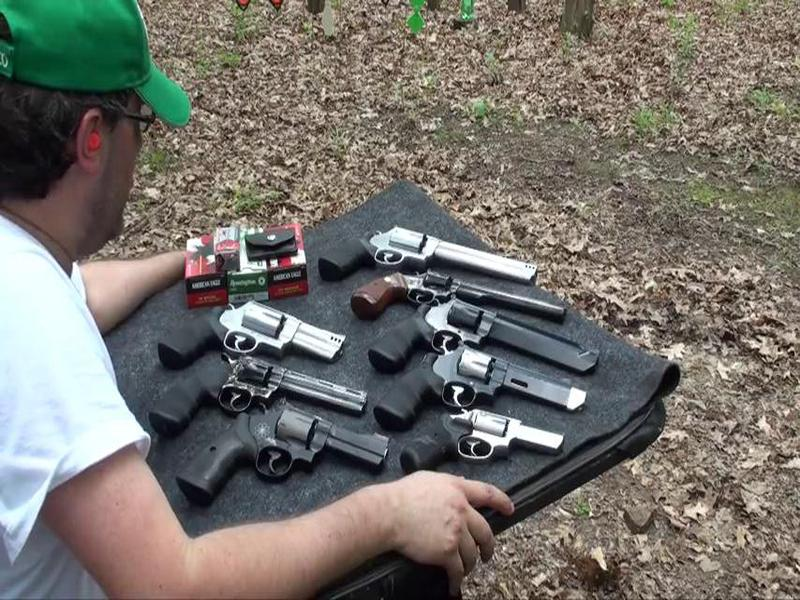Revolver: (378, 344, 592, 421)
